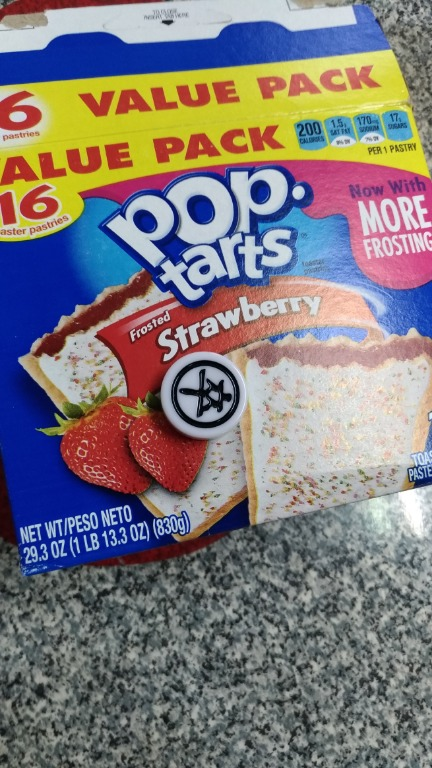b-pawn: (145, 347, 279, 455)
